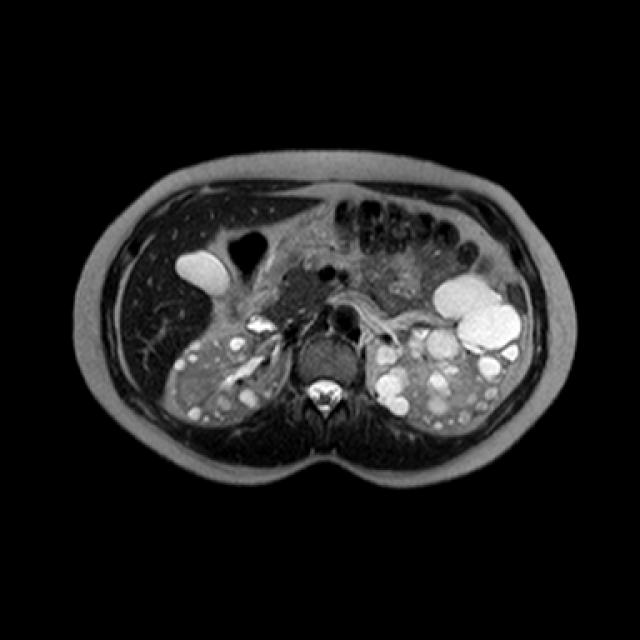sag: (170, 329, 288, 426)
sol: (365, 270, 524, 434)
